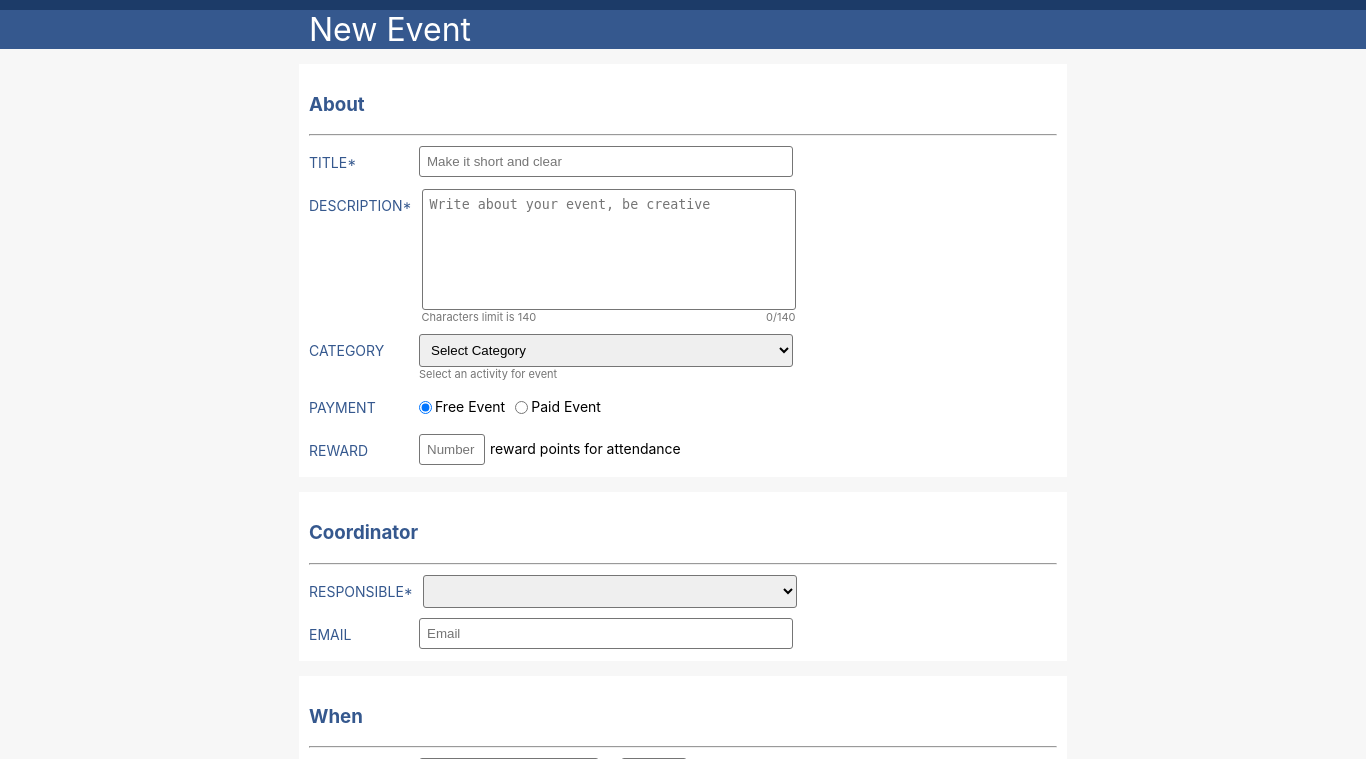
Test: should show count of description char count
Type "test" into the text box with placeholder "Write about your event, be creative" at (608, 250), box [422,189,796,310]
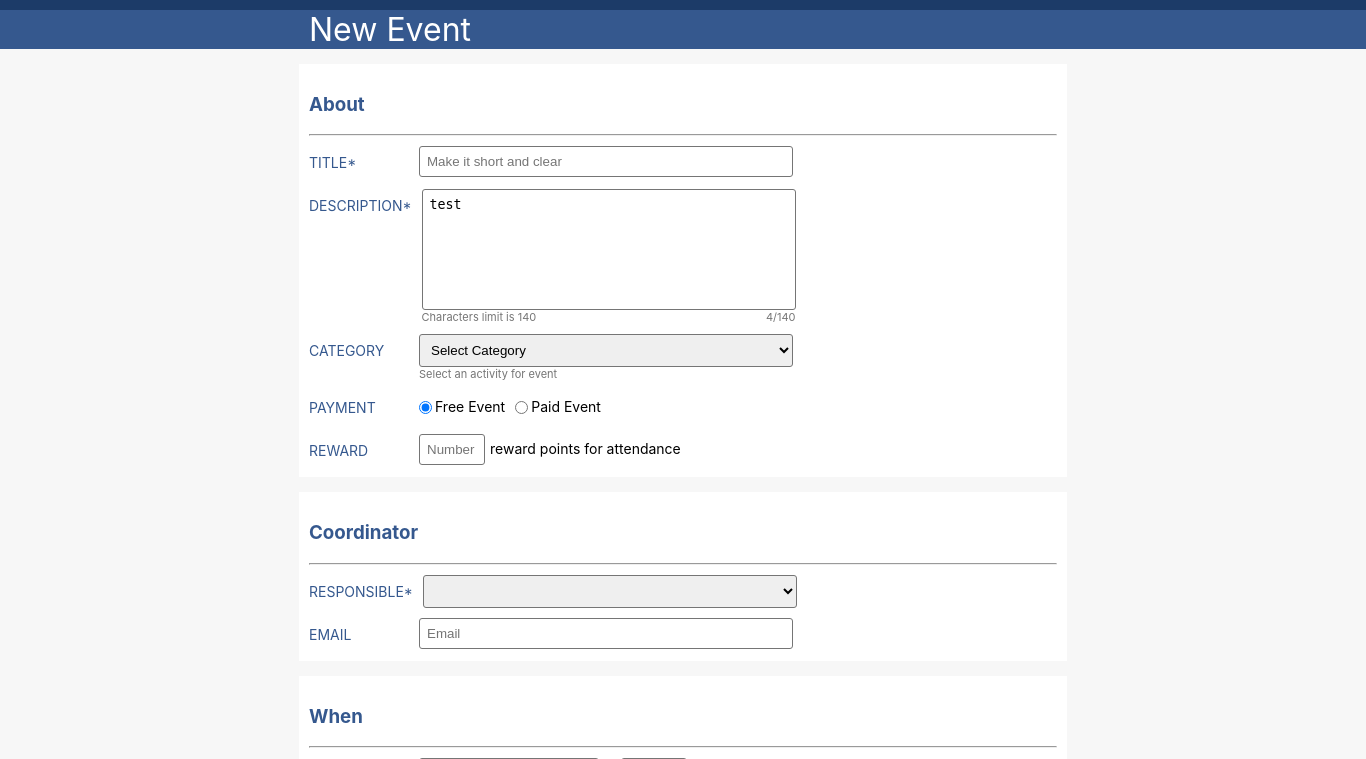
Check: the text with test id "text-area-char-count" reads "4/140", box [766,310,796,324]
